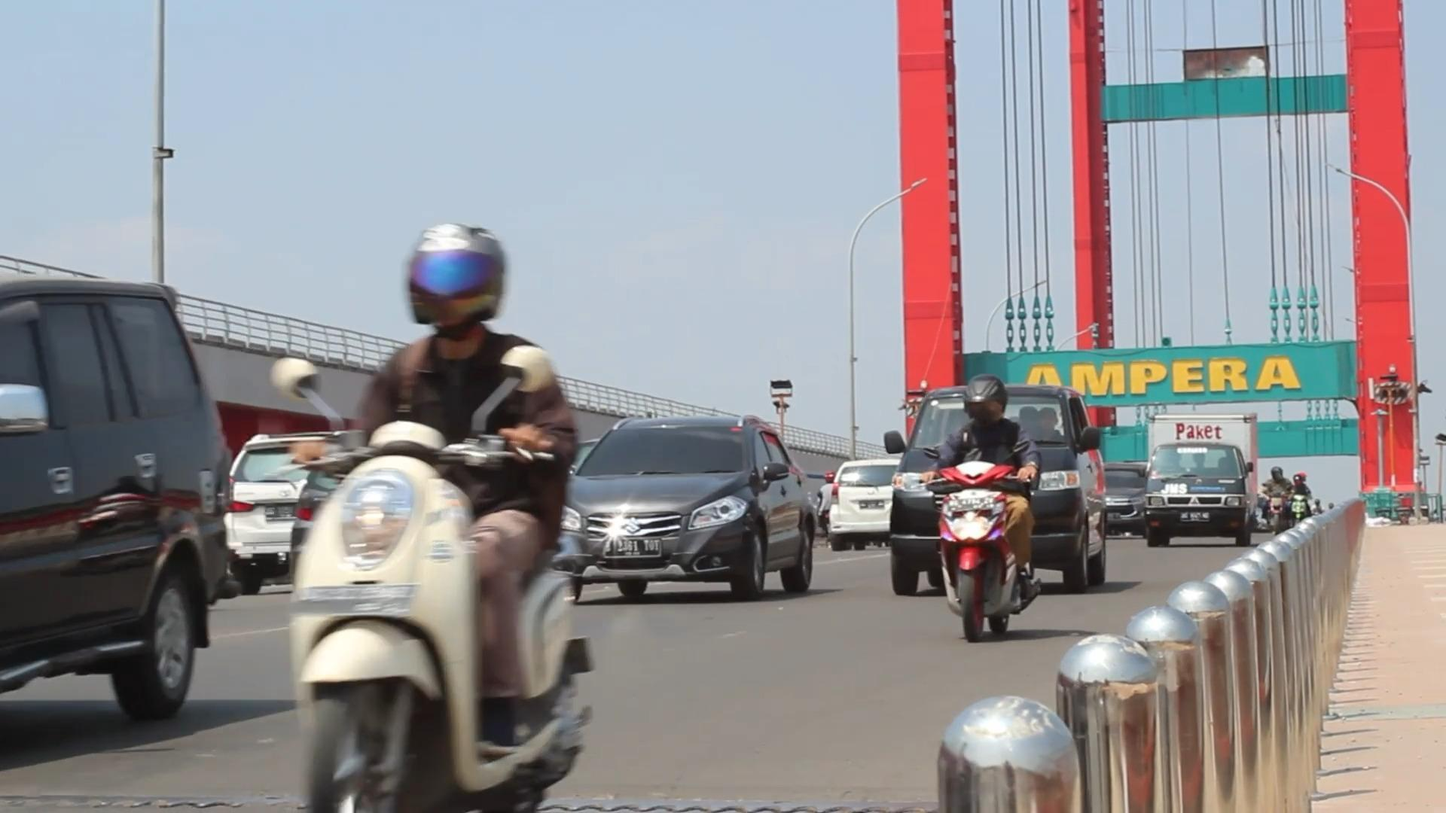Helmet: (401, 208, 517, 342), (952, 366, 1017, 435)
bike: (259, 344, 598, 813), (922, 440, 1041, 644)
rider: (295, 214, 581, 731), (925, 369, 1041, 602)
